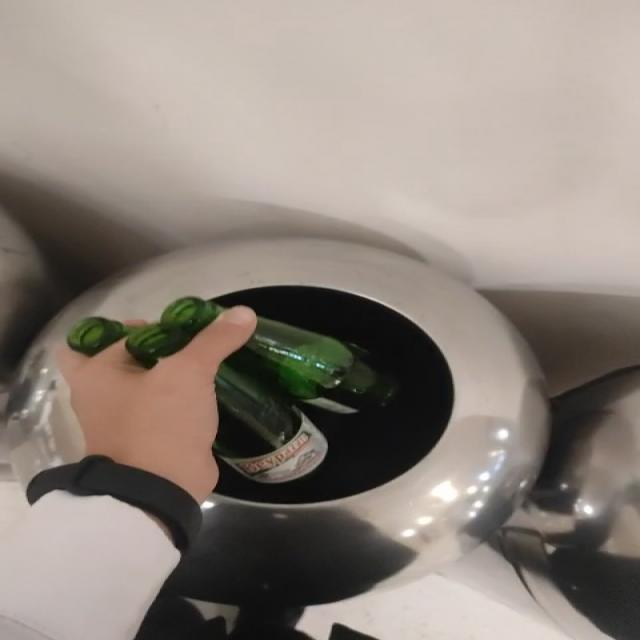glass: (213, 317, 399, 484), (67, 297, 224, 368)
